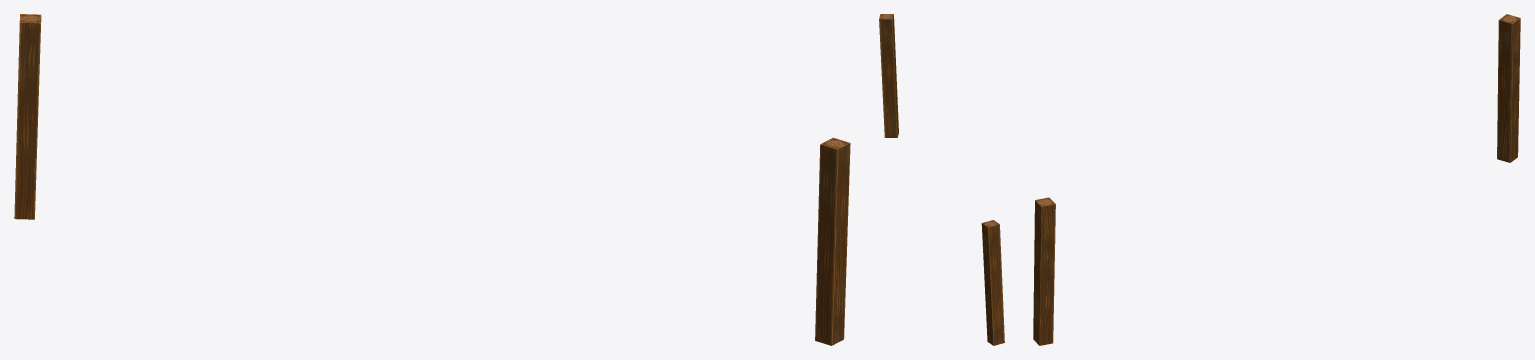
The picture shows the model from 3 angles, left to right: view 1: azimuth 30°, elevation 25°; view 2: azimuth 150°, elevation 25°; view 3: azimuth 270°, elevation 25°; orthographic projection. The views are drawn at different scales.
Parts seen in each view (by area): view 1: Cube.739; view 2: Cube.739; view 3: Cube.739.
Boxes of the visible parts, left/top/right/bottom form: Cube.739: left=14, top=14, right=850, bottom=345; Cube.739: left=879, top=14, right=1004, bottom=345; Cube.739: left=1033, top=14, right=1520, bottom=345.
Bounding box in the file's own units: 2119 × 805 × 2349.
Materials: 1 (1 with a texture image).
